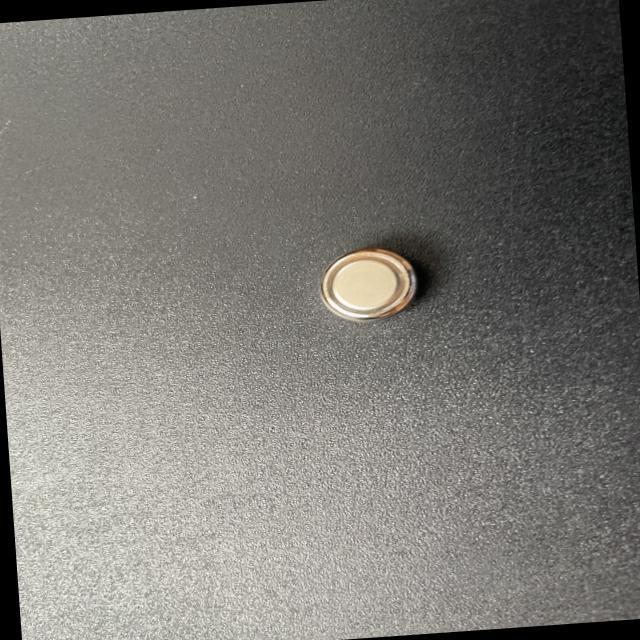COIN: (316, 240, 426, 328)
